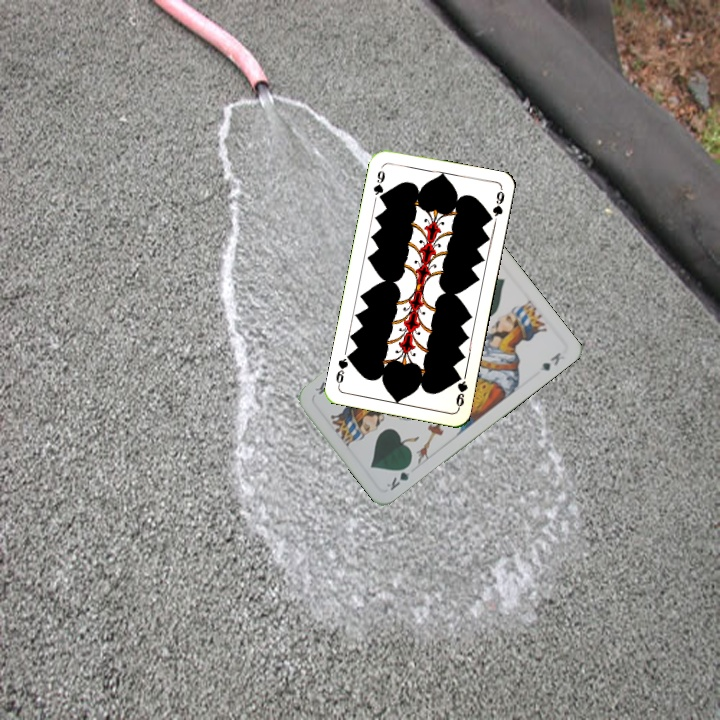G9: (452, 370, 470, 411), (369, 166, 388, 203)
GK: (382, 460, 414, 493)
